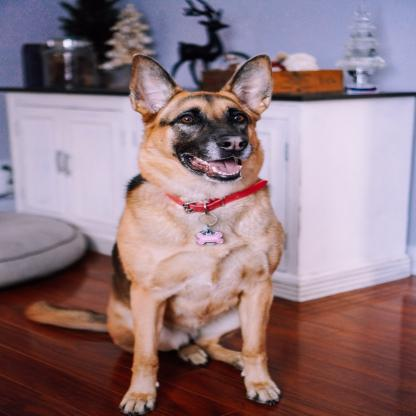dog: (20, 57, 291, 410)
